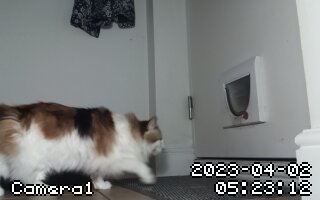clara: (1, 95, 166, 190)
